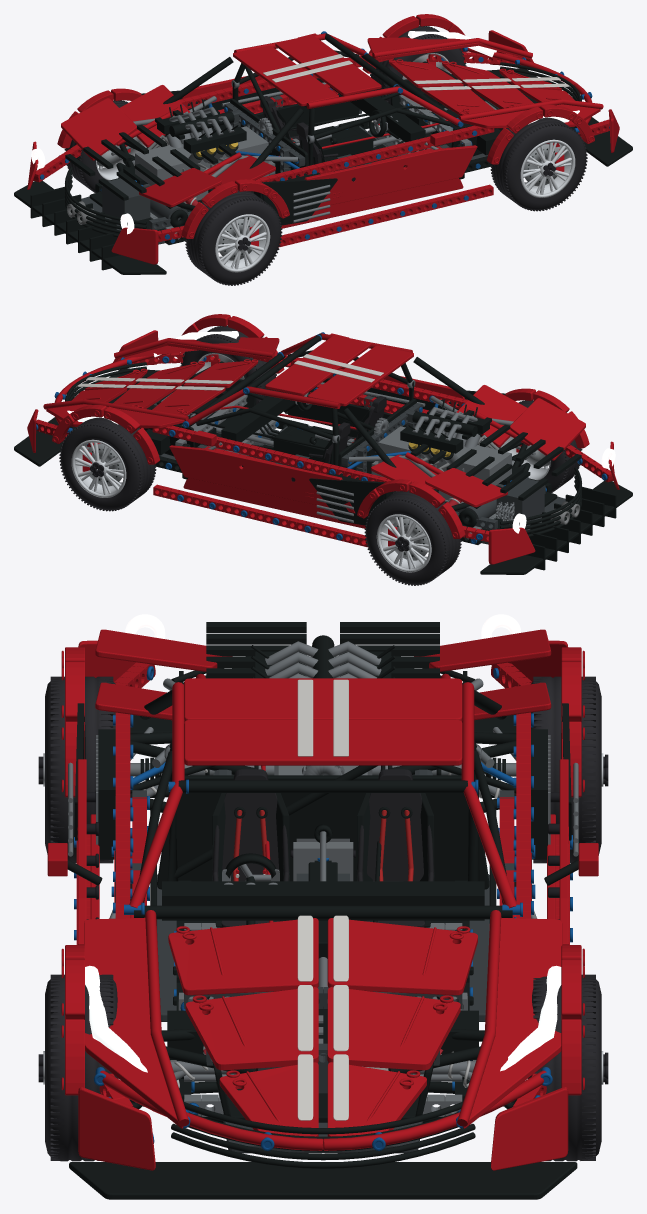
The picture shows the model from 3 angles, top to bottom: view 1: azimuth 30°, elevation 25°; view 2: azimuth 150°, elevation 25°; view 3: azimuth 270°, elevation 25°; orthographic projection. The views are drawn at different scales.
Visible parts, largest first — view 1: puerta_izq, rueda_tras_izq, rueda_del_izq, talonera_izq, difusor, techo_1, techo_0, panel_motor_der_1, cintura_izq, toma_lateral_izq, llanta_tras_izq, llanta_del_izq (+68 smaller); view 2: puerta_der, rueda_tras_der, rueda_del_der, talonera_der, difusor, techo_1, techo_0, panel_motor_izq_1, cintura_der, llanta_tras_der, llanta_del_der, toma_lateral_der (+67 smaller); view 3: splitter_del, techo_1, panel_mamparo, techo_0, panel_aleta_del_der, capo_der_0, capo_izq_0, panel_aleta_del_izq, salpicadero, capo_der_1, capo_izq_1, paragolpes_del_der (+66 smaller).
Part boxes in pixels (bbox=[...]): puerta_izq: bbox=[304, 145, 477, 207]; rueda_tras_izq: bbox=[185, 190, 282, 285]; rueda_del_izq: bbox=[490, 117, 587, 211]; talonera_izq: bbox=[278, 184, 493, 247]; difusor: bbox=[30, 186, 120, 270]; techo_1: bbox=[275, 35, 381, 95]; techo_0: bbox=[233, 45, 338, 106]; panel_motor_der_1: bbox=[61, 98, 136, 160]; cintura_izq: bbox=[255, 125, 494, 182]; toma_lateral_izq: bbox=[261, 178, 337, 225]; llanta_tras_izq: bbox=[215, 214, 270, 272]; llanta_del_izq: bbox=[520, 139, 575, 197]; puerta_der: bbox=[169, 445, 354, 513]; rueda_tras_der: bbox=[364, 490, 461, 585]; rueda_del_der: bbox=[59, 417, 156, 511]; talonera_der: bbox=[153, 484, 368, 547]; difusor: bbox=[526, 486, 616, 570]; techo_1: bbox=[265, 335, 371, 395]; techo_0: bbox=[308, 345, 413, 406]; panel_motor_izq_1: bbox=[510, 398, 585, 460]; cintura_der: bbox=[152, 425, 391, 482]; llanta_tras_der: bbox=[376, 514, 431, 572]; llanta_del_der: bbox=[71, 439, 126, 497]; toma_lateral_der: bbox=[309, 478, 385, 525]; splitter_del: bbox=[69, 1162, 577, 1199]; techo_1: bbox=[184, 720, 462, 765]; panel_mamparo: bbox=[157, 775, 489, 889]; techo_0: bbox=[184, 678, 462, 721]; panel_aleta_del_der: bbox=[463, 917, 562, 1128]; capo_der_0: bbox=[327, 918, 477, 995]; capo_izq_0: bbox=[168, 918, 318, 995]; panel_aleta_del_izq: bbox=[84, 917, 183, 1128]; salpicadero: bbox=[162, 881, 484, 920]; capo_der_1: bbox=[327, 987, 460, 1070]; capo_izq_1: bbox=[185, 987, 318, 1070]; paragolpes_del_der: bbox=[323, 1067, 568, 1170].
Size of the model in its own units: 0.52 by 0.13 by 0.25.
